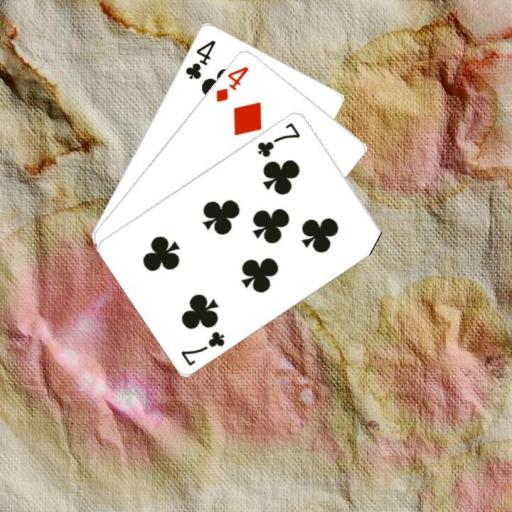4C: (182, 37, 217, 81)
4D: (212, 63, 250, 104)
7C: (178, 327, 227, 368), (254, 119, 302, 159)
